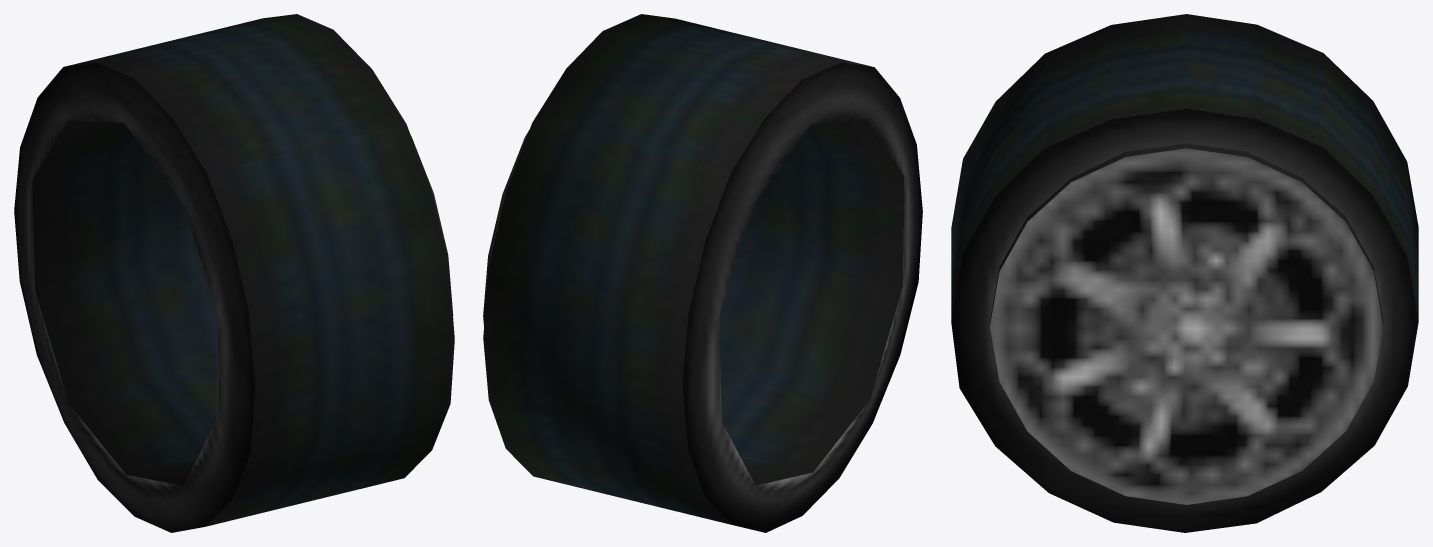
File: AICarTyre.fbx
3 renders of one model, left to right at view 1: azimuth 30°, elevation 25°; view 2: azimuth 150°, elevation 25°; view 3: azimuth 270°, elevation 25°, orthographic. The views are drawn at different scales.
Visible parts, largest first — view 1: AICarTyre; view 2: AICarTyre; view 3: AICarTyre.
Part boxes in pixels (x1,y1,x2,y2): AICarTyre: [14, 14, 454, 532]; AICarTyre: [483, 14, 922, 532]; AICarTyre: [951, 14, 1418, 532].
Size of the model in its own units: 36.88 by 67.85 by 67.71.
